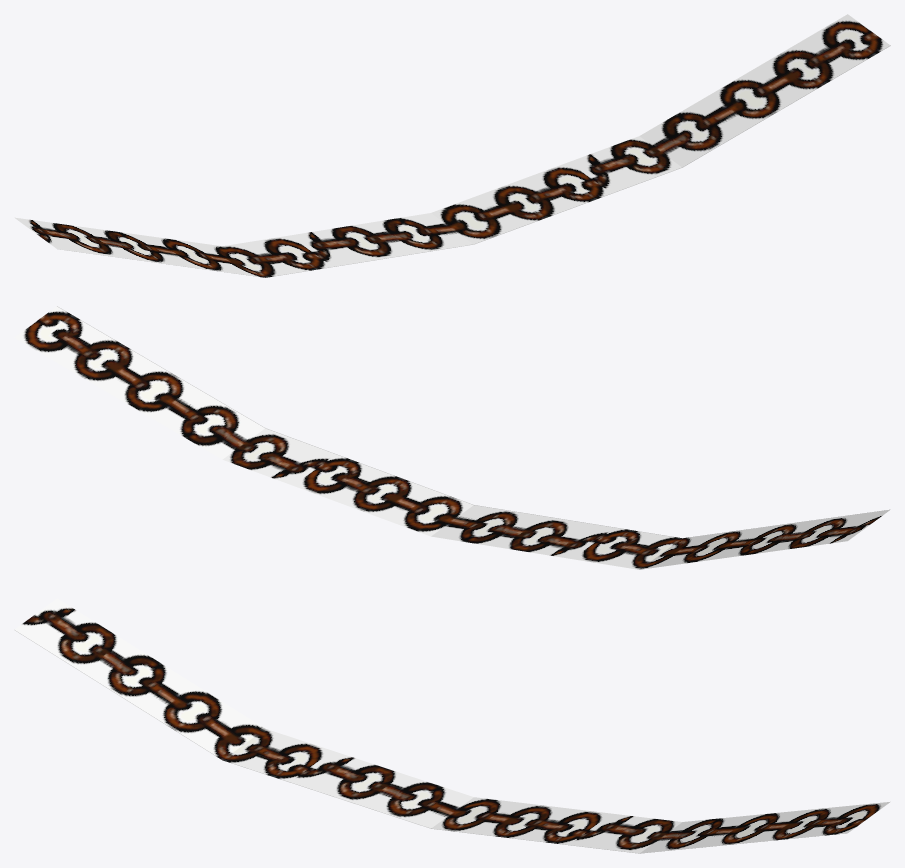
The model's file is Kette2_1811.glb.
The picture shows the model from 3 angles, top to bottom: view 1: azimuth 30°, elevation 25°; view 2: azimuth 150°, elevation 25°; view 3: azimuth 330°, elevation 25°; orthographic projection.
Visible parts, largest first — view 1: pPlaneShape6; view 2: pPlaneShape6; view 3: pPlaneShape6.
Boxes of the visible parts, left/top/right/bottom form: pPlaneShape6: left=14, top=14, right=890, bottom=277; pPlaneShape6: left=14, top=306, right=890, bottom=569; pPlaneShape6: left=14, top=598, right=890, bottom=853.
Bounding box in the file's own units: 0.5 × 0.0557 × 0.0449.
1 material, 1 textured.
